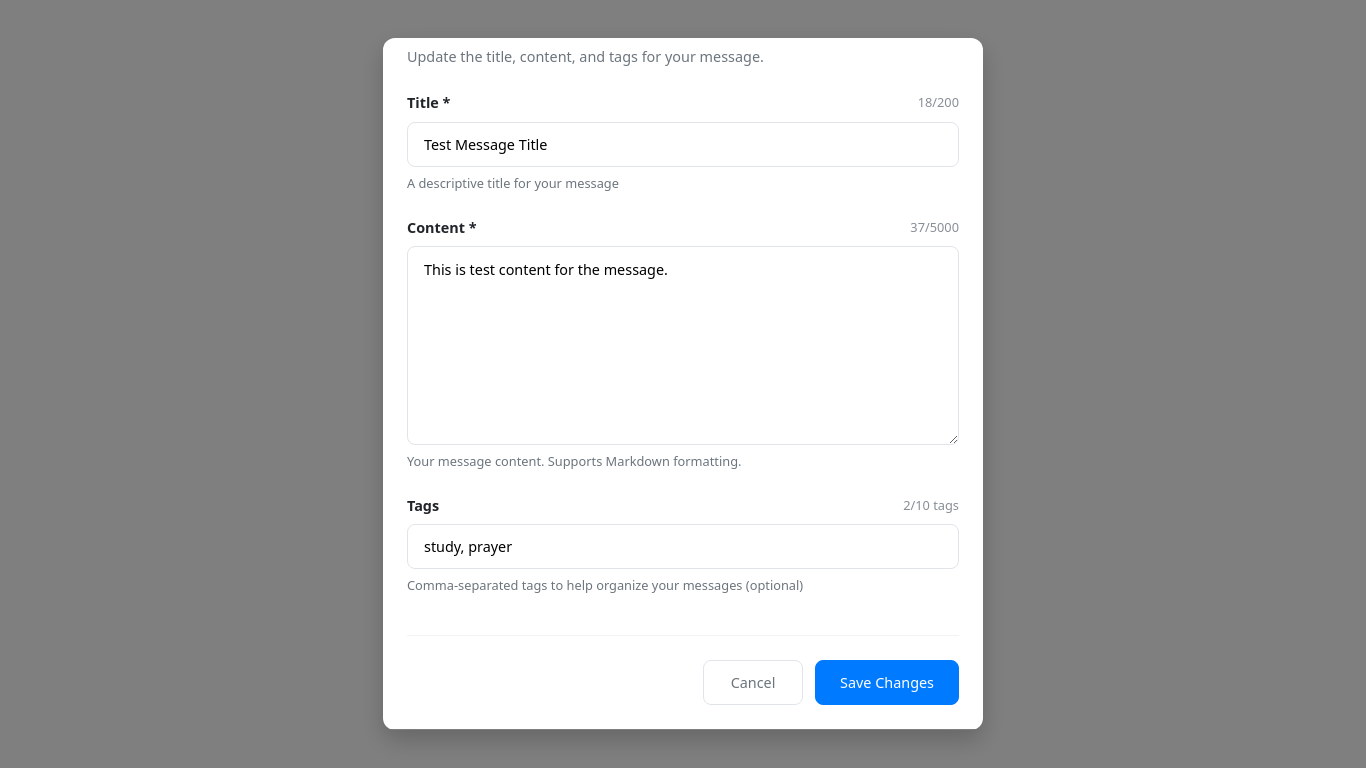
MessageEditModal › Form Submission › shows error when submission fails
(page scrolled)
Click the button "Save Changes" at (887, 683), box [815,660,959,705]
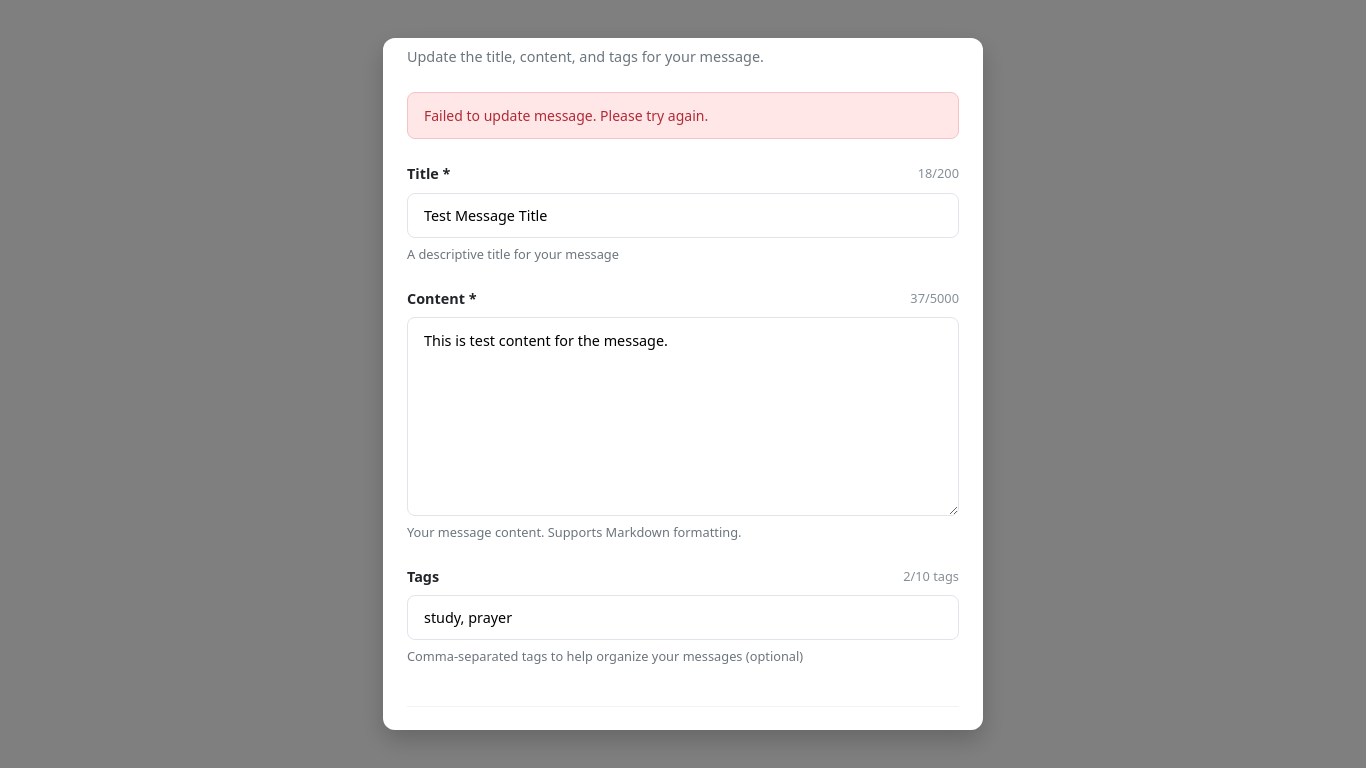
Expected: the text "Failed to update message. Please try again." is shown, [407,92,959,139]
